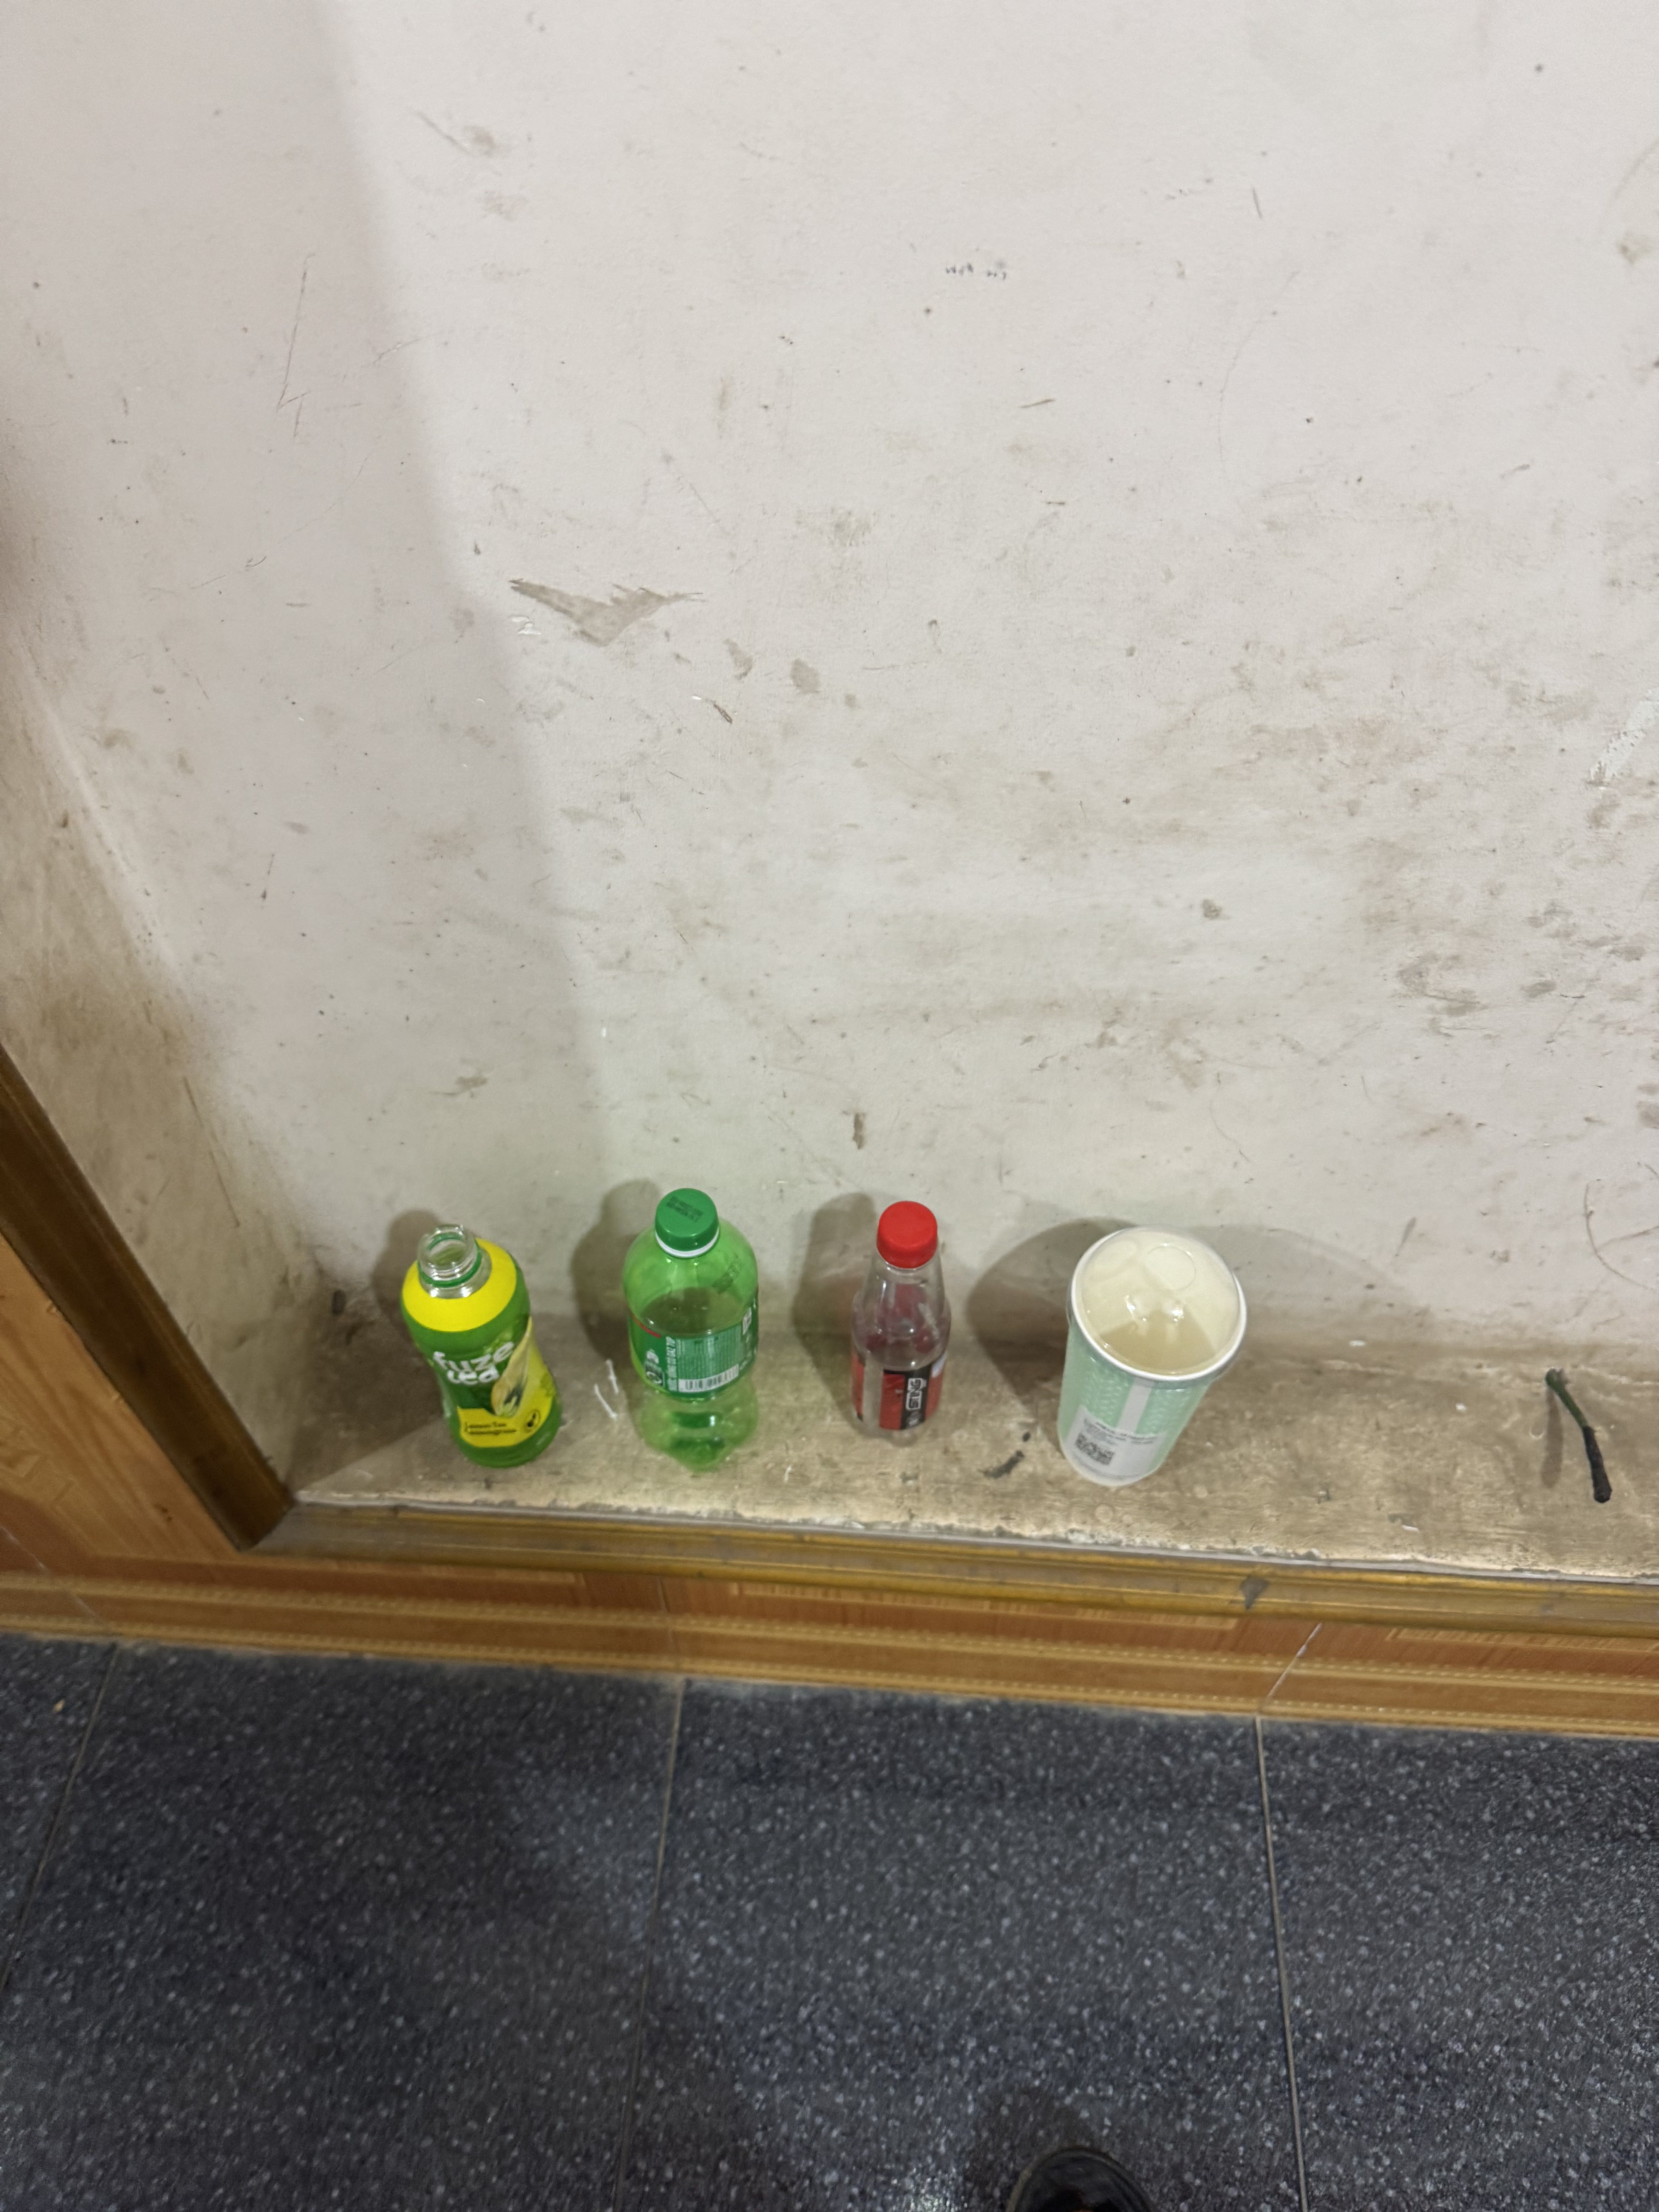2: (1033, 1198, 1265, 1519)
bottle: (375, 1207, 589, 1496), (605, 1169, 791, 1498), (836, 1181, 978, 1472)
